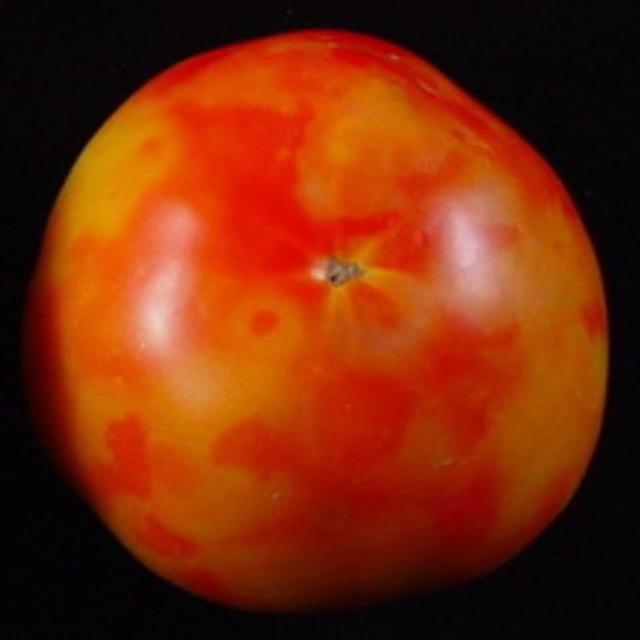Spotted wilt Virus Fruit: (58, 18, 127, 99)
